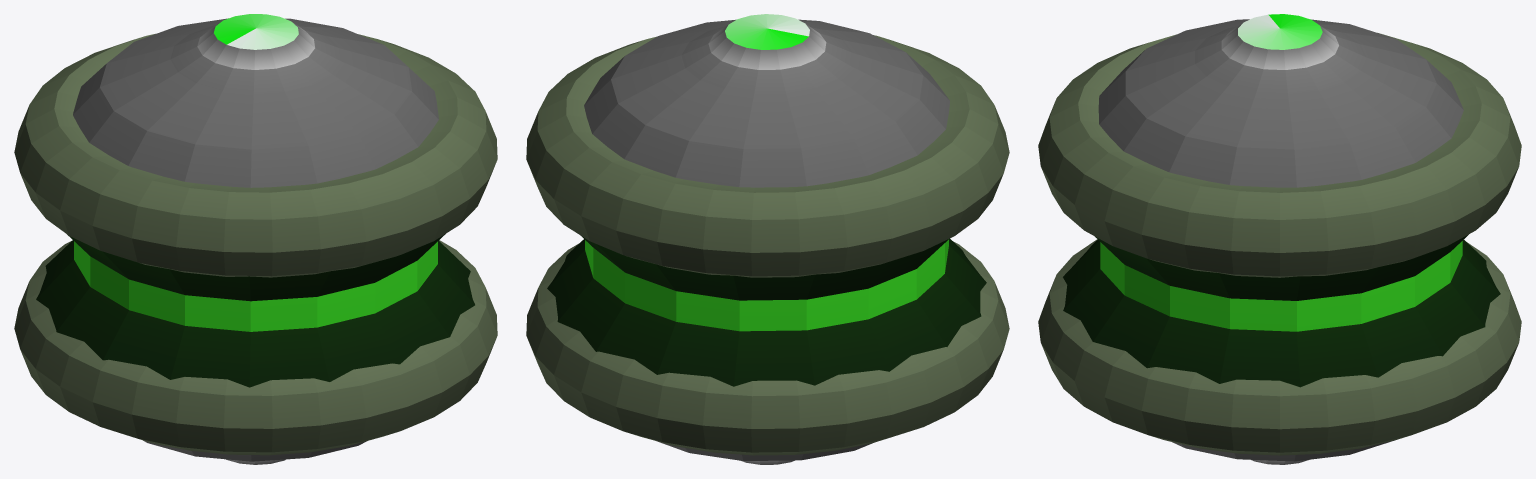
File: questbattery.fbx
The picture shows the model from 3 angles, left to right: view 1: azimuth 30°, elevation 25°; view 2: azimuth 150°, elevation 25°; view 3: azimuth 270°, elevation 25°; orthographic projection.
Visible parts, largest first — view 1: Sphere; view 2: Sphere; view 3: Sphere.
Boxes of the visible parts, x1,y1,x2,y2 form: Sphere: (14, 14, 497, 464); Sphere: (526, 14, 1009, 464); Sphere: (1038, 14, 1521, 464).
Size of the model in its own units: 63.4 by 61.16 by 63.49.
1 material, 1 textured.
